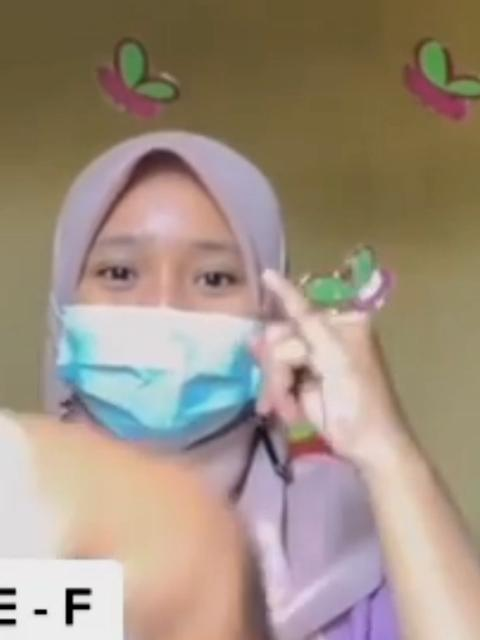J: (247, 266, 403, 452)
